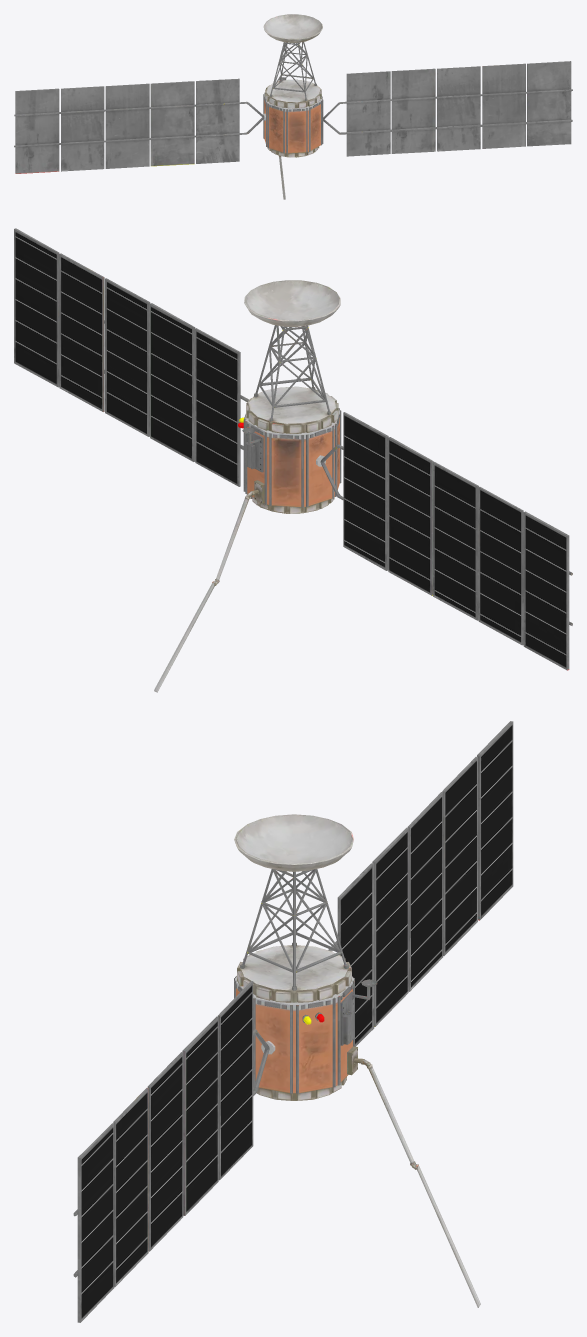
Rendered from satellite-transformed.glb.
3 renders of one model, top to bottom at view 1: azimuth 30°, elevation 25°; view 2: azimuth 150°, elevation 25°; view 3: azimuth 270°, elevation 25°, orthographic. The views are drawn at different scales.
Visible parts, largest first — view 1: Object_2; view 2: Object_2; view 3: Object_2.
Part boxes in pixels (bbox=[...]): Object_2: bbox=[14, 14, 572, 199]; Object_2: bbox=[14, 228, 572, 692]; Object_2: bbox=[73, 721, 513, 1322].
Bounding box in the file's own units: 17.13 × 7.85 × 7.25.
1 material, 1 textured.
